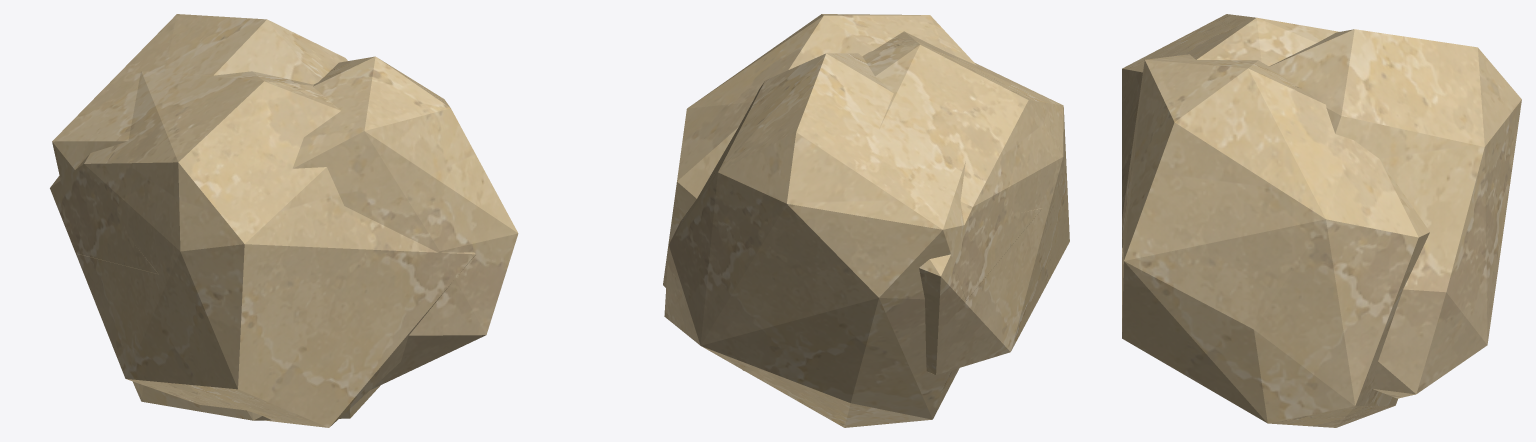
File: ground_bottom_square_interior_03.glb
The picture shows the model from 3 angles, left to right: view 1: azimuth 30°, elevation 25°; view 2: azimuth 150°, elevation 25°; view 3: azimuth 270°, elevation 25°; orthographic projection. The views are drawn at different scales.
Visible parts, largest first — view 1: GroundBottomSquareInterior03_Body; view 2: GroundBottomSquareInterior03_Body; view 3: GroundBottomSquareInterior03_Body.
Boxes of the visible parts, left/top/right/bottom form: GroundBottomSquareInterior03_Body: left=50, top=14, right=518, bottom=427; GroundBottomSquareInterior03_Body: left=663, top=14, right=1069, bottom=427; GroundBottomSquareInterior03_Body: left=1122, top=14, right=1521, bottom=427.
Size of the model in its own units: 1 by 1.07 by 1.
1 material, 1 textured.
